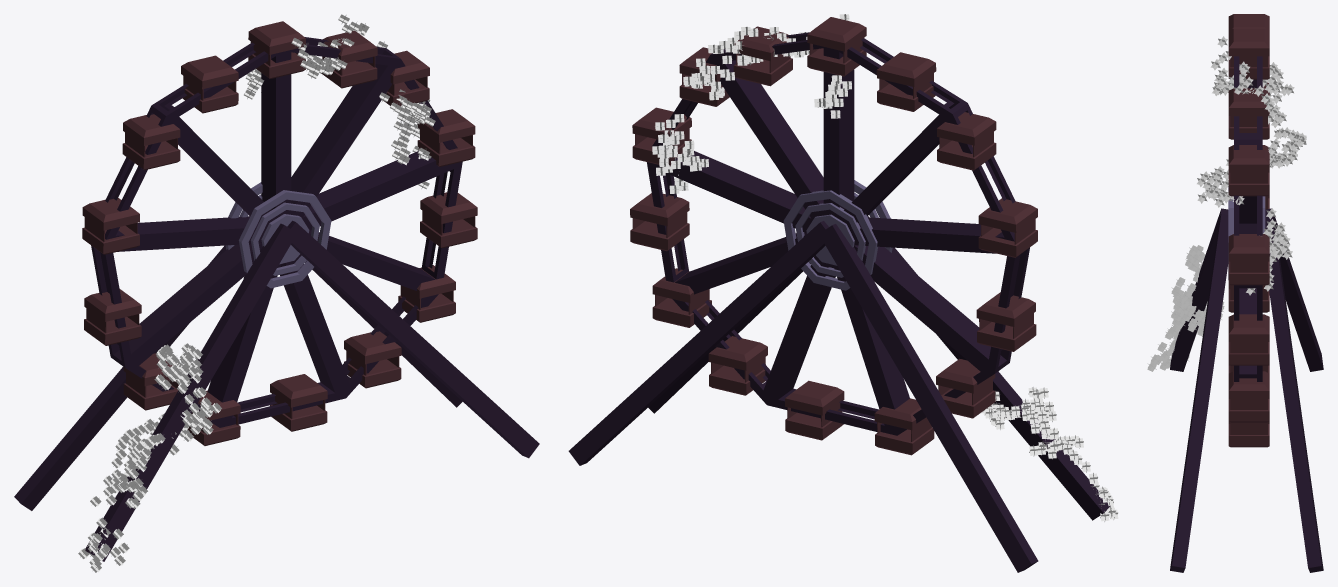
Rendered from reuzenrad.fbx.
3 renders of one model, left to right at view 1: azimuth 30°, elevation 25°; view 2: azimuth 150°, elevation 25°; view 3: azimuth 270°, elevation 25°, orthographic. The views are drawn at different scales.
Parts seen in each view (by area): view 1: Circle.007, karretjes, Plane.002, leaf.001, Plane.001, leaf.002; view 2: Circle.007, karretjes, Plane.001, leaf.002, Plane.002, leaf.001; view 3: karretjes, Plane.002, Plane.001, leaf.002, Circle.007, leaf.001.
Boxes of the visible parts, x1,y1,x2,y2 form: Circle.007: [91, 37, 462, 427]; karretjes: [82, 21, 477, 445]; Plane.002: [85, 190, 539, 561]; leaf.001: [78, 343, 221, 572]; Plane.001: [14, 182, 462, 510]; leaf.002: [244, 14, 435, 189]; Circle.007: [647, 32, 1029, 435]; karretjes: [630, 17, 1037, 455]; Plane.001: [568, 190, 1038, 572]; leaf.002: [652, 14, 851, 193]; Plane.002: [648, 180, 1110, 520]; leaf.001: [980, 387, 1118, 521]; karretjes: [1228, 14, 1269, 447]; Plane.002: [1170, 187, 1233, 572]; Plane.001: [1262, 196, 1323, 572]; leaf.002: [1197, 36, 1306, 295]; Circle.007: [1234, 56, 1262, 381]; leaf.001: [1147, 245, 1228, 371].
Bounding box in the file's own units: 425 × 409 × 148.
